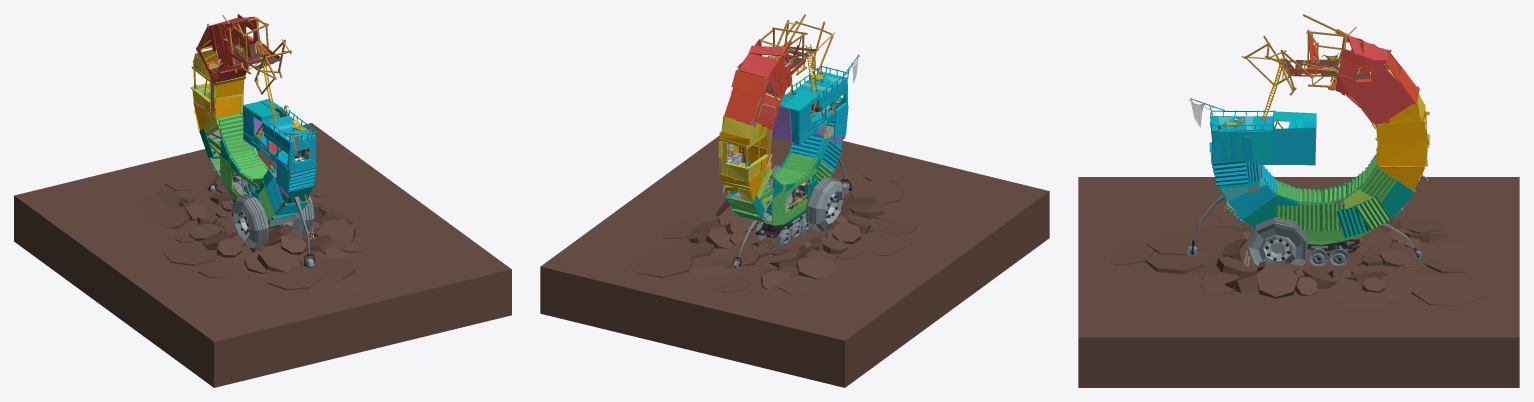
Rendered from the_big_g_building.glb.
The picture shows the model from 3 angles, left to right: view 1: azimuth 30°, elevation 25°; view 2: azimuth 150°, elevation 25°; view 3: azimuth 270°, elevation 25°; orthographic projection. The views are drawn at different scales.
Visible parts, largest first — view 1: Object_14, Object_21, Object_3, Object_9, Object_12, Object_6, Object_20, Object_23, Object_10, Object_7, Object_5, Object_4; view 2: Object_14, Object_21, Object_3, Object_7, Object_9, Object_5, Object_23, Object_12, Object_20, Object_6, Object_10, Object_4 (+2 smaller); view 3: Object_14, Object_21, Object_3, Object_23, Object_6, Object_20, Object_4, Object_9, Object_12, Object_10, Object_7, Object_17 (+2 smaller).
Part boxes in pixels (box(x1,y1,x2,y2)): Object_14: box(14, 43, 511, 387); Object_21: box(194, 86, 317, 215); Object_3: box(194, 83, 308, 220); Object_9: box(207, 47, 314, 267); Object_12: box(197, 17, 315, 212); Object_6: box(192, 47, 308, 206); Object_20: box(243, 101, 317, 200); Object_23: box(196, 14, 279, 152); Object_10: box(209, 43, 314, 267); Object_7: box(198, 20, 305, 157); Object_5: box(190, 48, 305, 157); Object_4: box(199, 113, 309, 219); Object_14: box(540, 46, 1049, 387); Object_21: box(748, 54, 858, 212); Object_3: box(726, 74, 841, 225); Object_7: box(724, 34, 805, 155); Object_9: box(722, 61, 849, 268); Object_5: box(718, 117, 804, 202); Object_23: box(731, 39, 791, 126); Object_12: box(724, 14, 859, 205); Object_20: box(729, 65, 849, 213); Object_6: box(719, 44, 834, 200); Object_10: box(724, 62, 850, 267); Object_4: box(725, 76, 842, 223); Object_14: box(1078, 55, 1519, 387); Object_21: box(1190, 98, 1316, 223); Object_3: box(1222, 117, 1415, 244); Object_23: box(1328, 35, 1416, 125); Object_6: box(1224, 54, 1427, 211); Object_20: box(1209, 105, 1316, 197); Object_4: box(1223, 119, 1414, 237); Object_9: box(1186, 57, 1428, 265); Object_12: box(1189, 14, 1428, 220); Object_10: box(1187, 53, 1422, 265); Object_7: box(1288, 29, 1419, 123); Object_17: box(1190, 55, 1419, 261).
Size of the model in its own units: 31.91 by 26.67 by 37.14.
